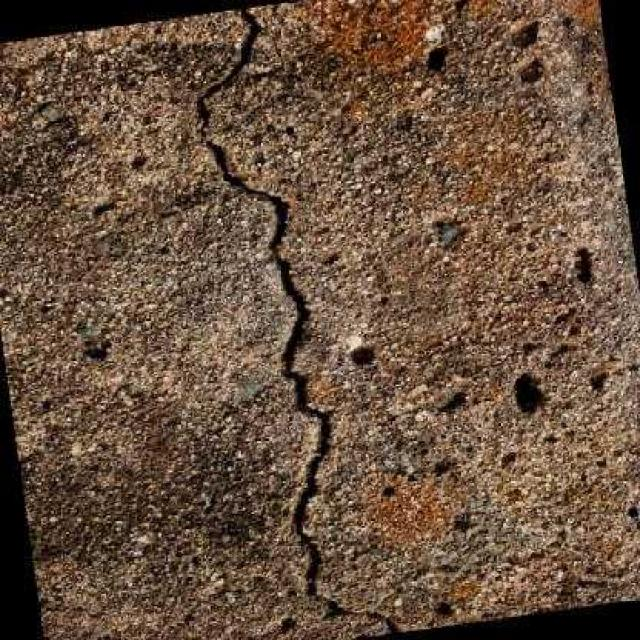D00: (196, 7, 398, 633)
